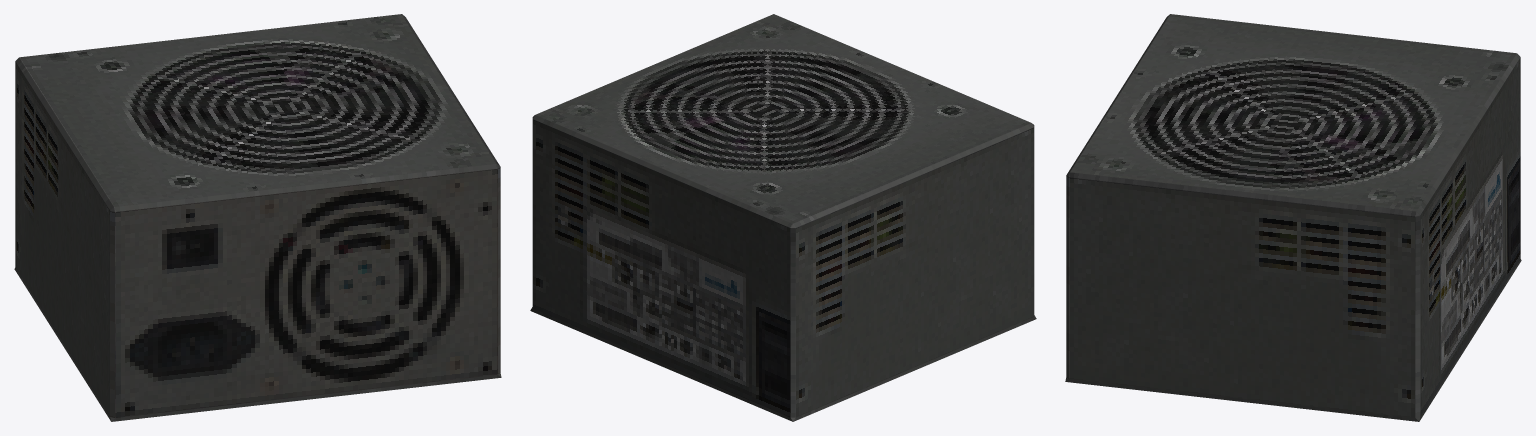
The model's file is power_supply_1.glb.
3 renders of one model, left to right at view 1: azimuth 30°, elevation 25°; view 2: azimuth 150°, elevation 25°; view 3: azimuth 270°, elevation 25°, orthographic. The views are drawn at different scales.
Visible parts, largest first — view 1: power_supply_1; view 2: power_supply_1; view 3: power_supply_1.
Boxes of the visible parts, x1=… form: power_supply_1: x1=14, y1=14, x2=501, y2=421; power_supply_1: x1=530, y1=14, x2=1036, y2=421; power_supply_1: x1=1065, y1=14, x2=1521, y2=421.
Bounding box in the file's own units: 0.3194 × 0.154 × 0.3056.
1 material, 1 textured.
